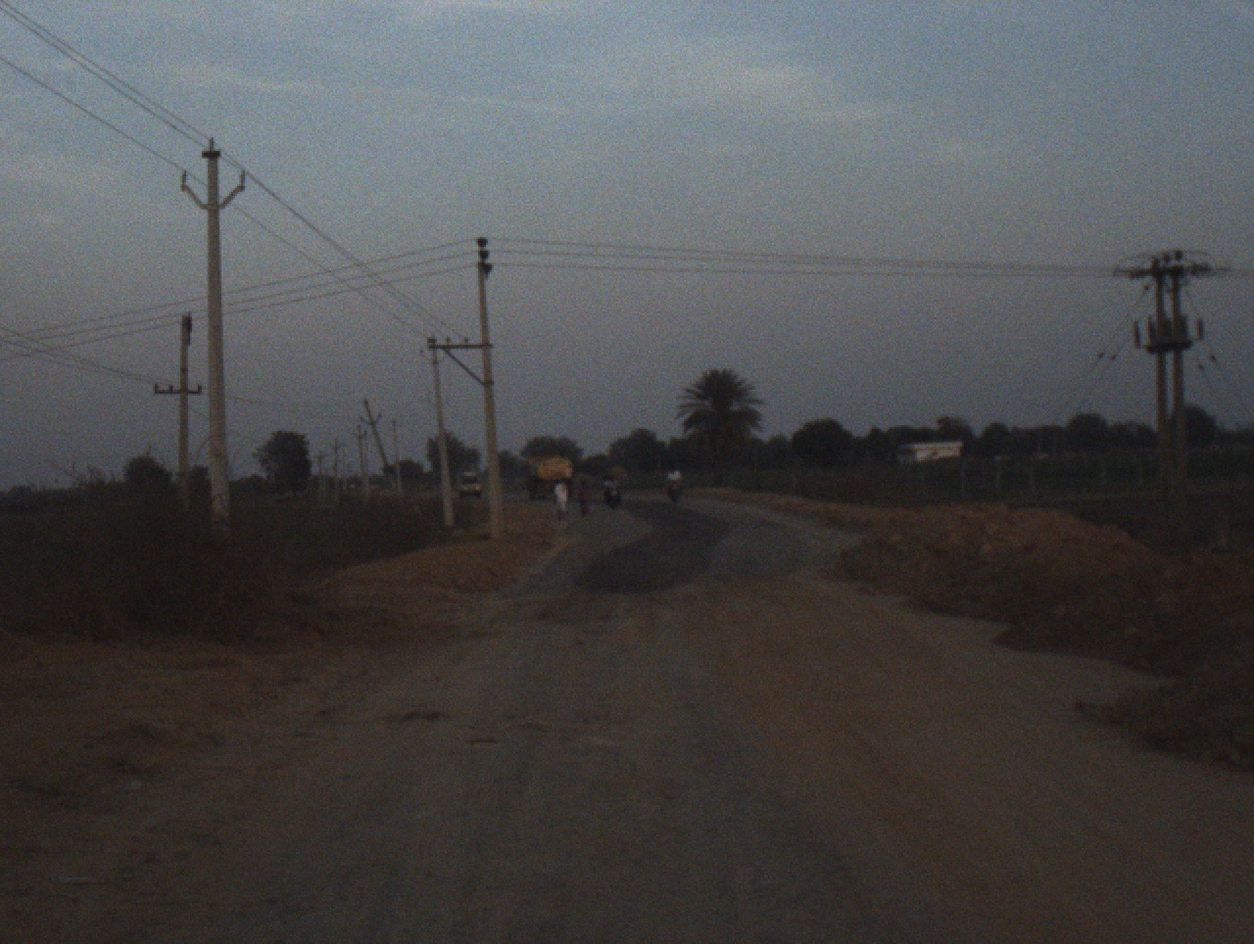motorcycle: (665, 472, 682, 500), (603, 487, 619, 500)
person: (551, 477, 569, 524), (576, 470, 592, 517)
rider: (604, 468, 624, 502), (667, 463, 680, 485)
truck: (528, 446, 580, 500), (457, 465, 485, 500)
